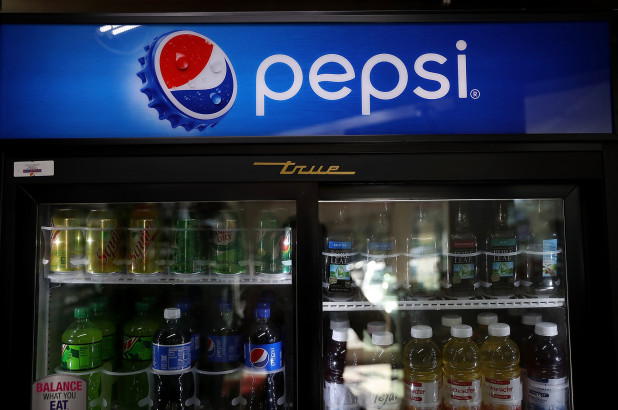pepsi: (156, 29, 236, 118)
